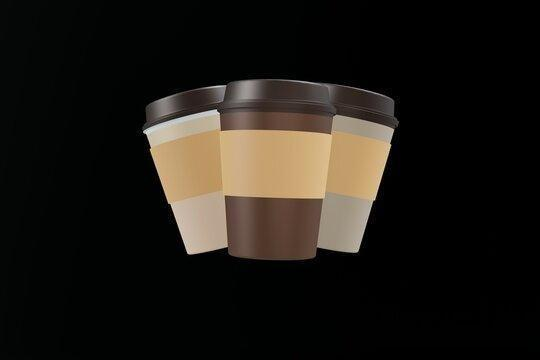cup-disposable: (216, 75, 337, 264), (140, 79, 228, 260), (314, 77, 401, 258)
